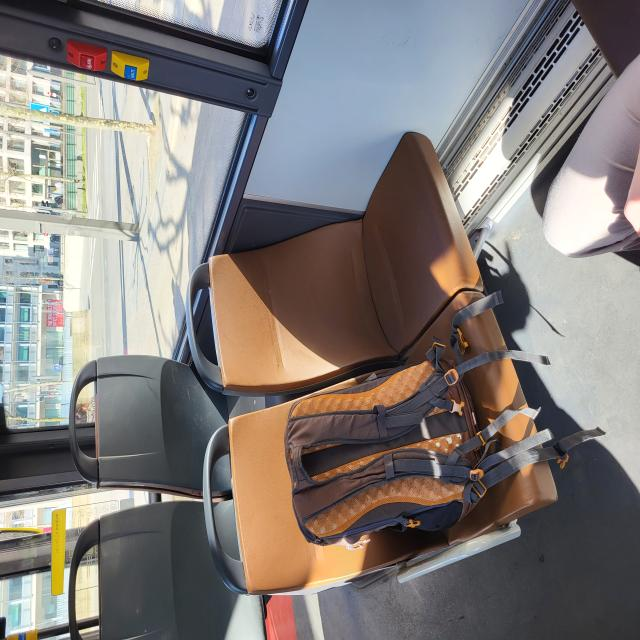asiento-libre: (176, 252, 382, 640), (34, 307, 261, 640), (0, 91, 110, 318), (104, 93, 218, 300)
